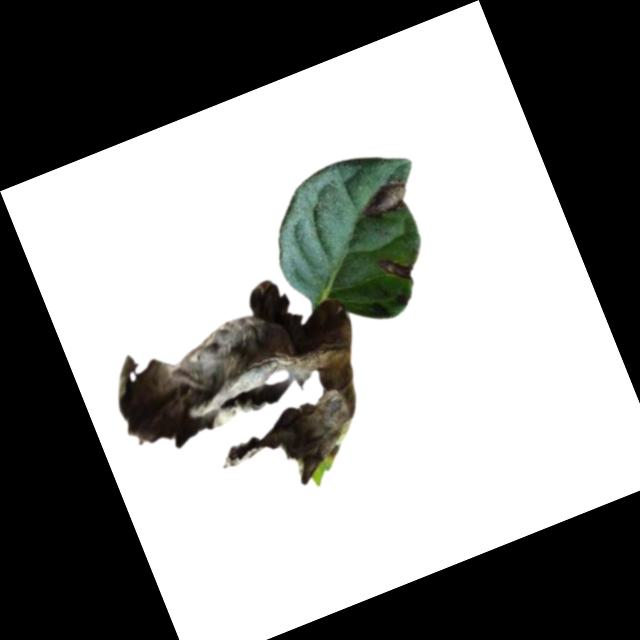Early_blight: (98, 256, 403, 537), (353, 172, 418, 222), (377, 248, 417, 289)
